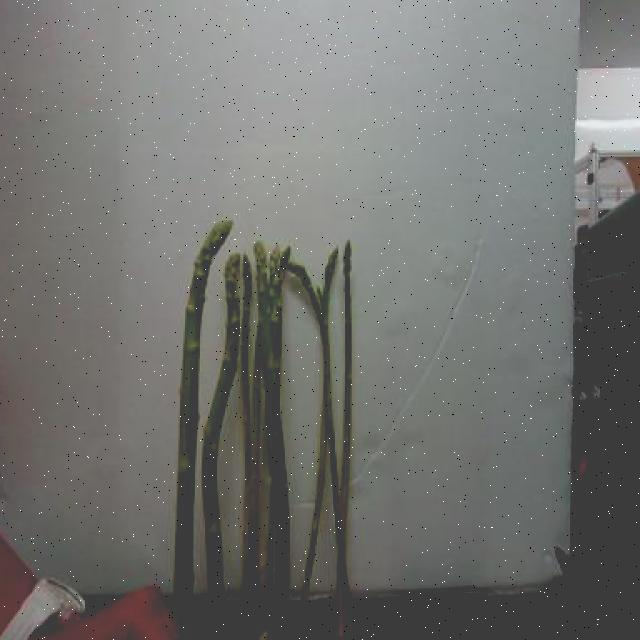aspargus: (173, 221, 235, 601), (198, 251, 242, 606), (336, 239, 353, 605)
